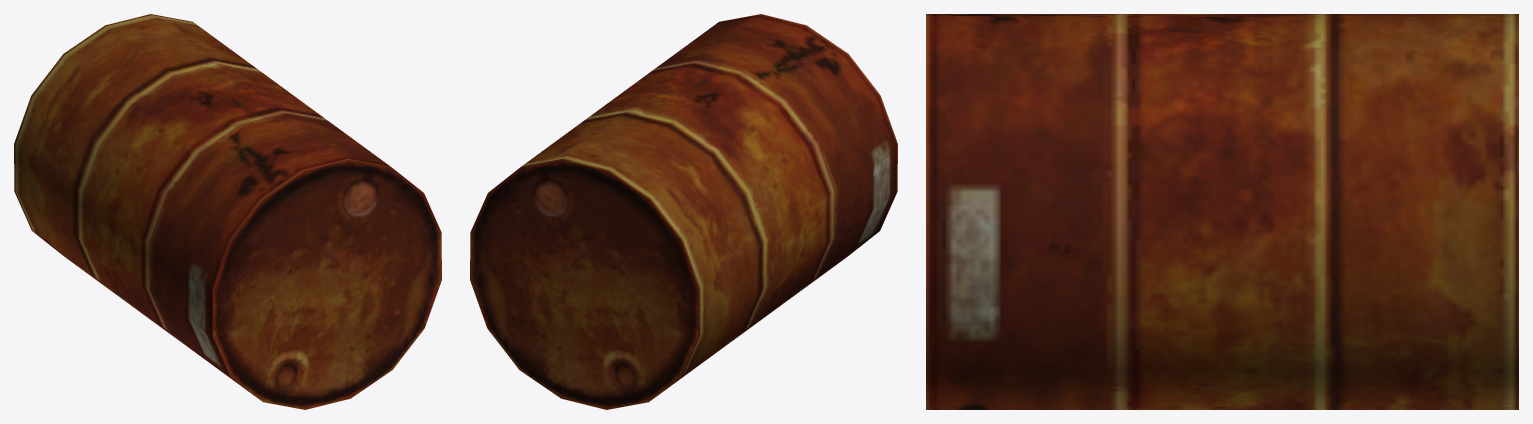
Rendered from od_single_on_side_red.fbx.
3 renders of one model, left to right at view 1: azimuth 30°, elevation 25°; view 2: azimuth 150°, elevation 25°; view 3: azimuth 270°, elevation 25°, orthographic. The views are drawn at different scales.
Parts seen in each view (by area): view 1: mesh_0; view 2: mesh_0; view 3: mesh_0.
Part boxes in pixels (box(x1,y1,x2,y2)): mesh_0: box(14, 14, 441, 409); mesh_0: box(470, 14, 897, 409); mesh_0: box(926, 14, 1518, 409).
Bounding box in the file's own units: 58.59 × 58.59 × 88.26.
1 material, 1 textured.
